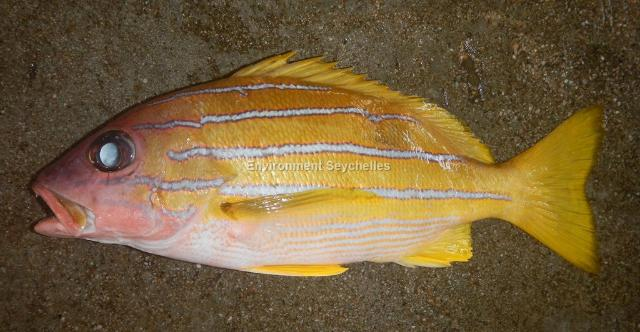Mulut: (21, 162, 71, 248)
Sirip Anal: (408, 218, 482, 274)
Sirip Dada: (222, 186, 380, 227)
Sirip Ekor: (524, 89, 616, 287)
Sirip Perut: (252, 257, 352, 283)
Sirip Punggung: (236, 40, 498, 166)
